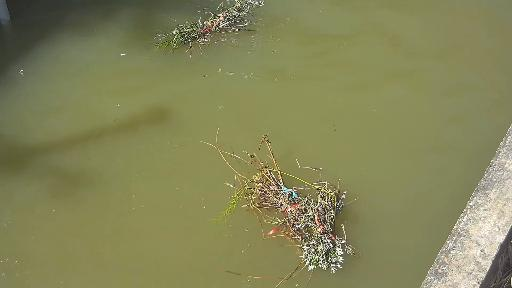twig: (190, 122, 367, 281), (149, 0, 268, 63)
